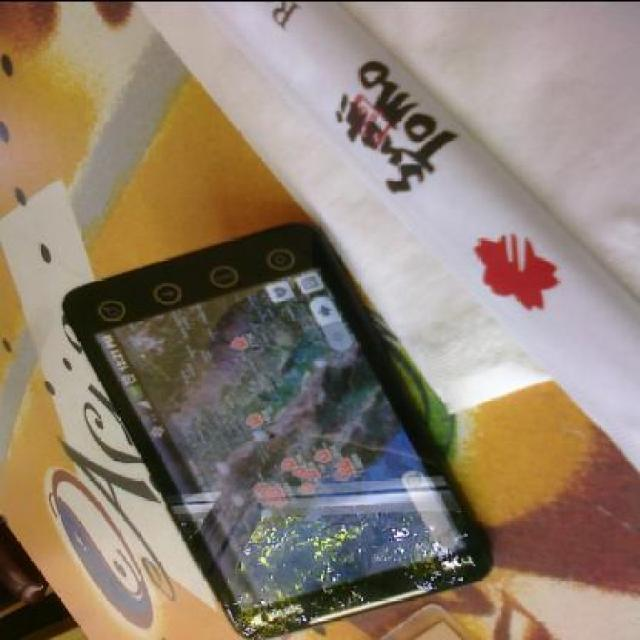phone: (57, 203, 488, 640)
